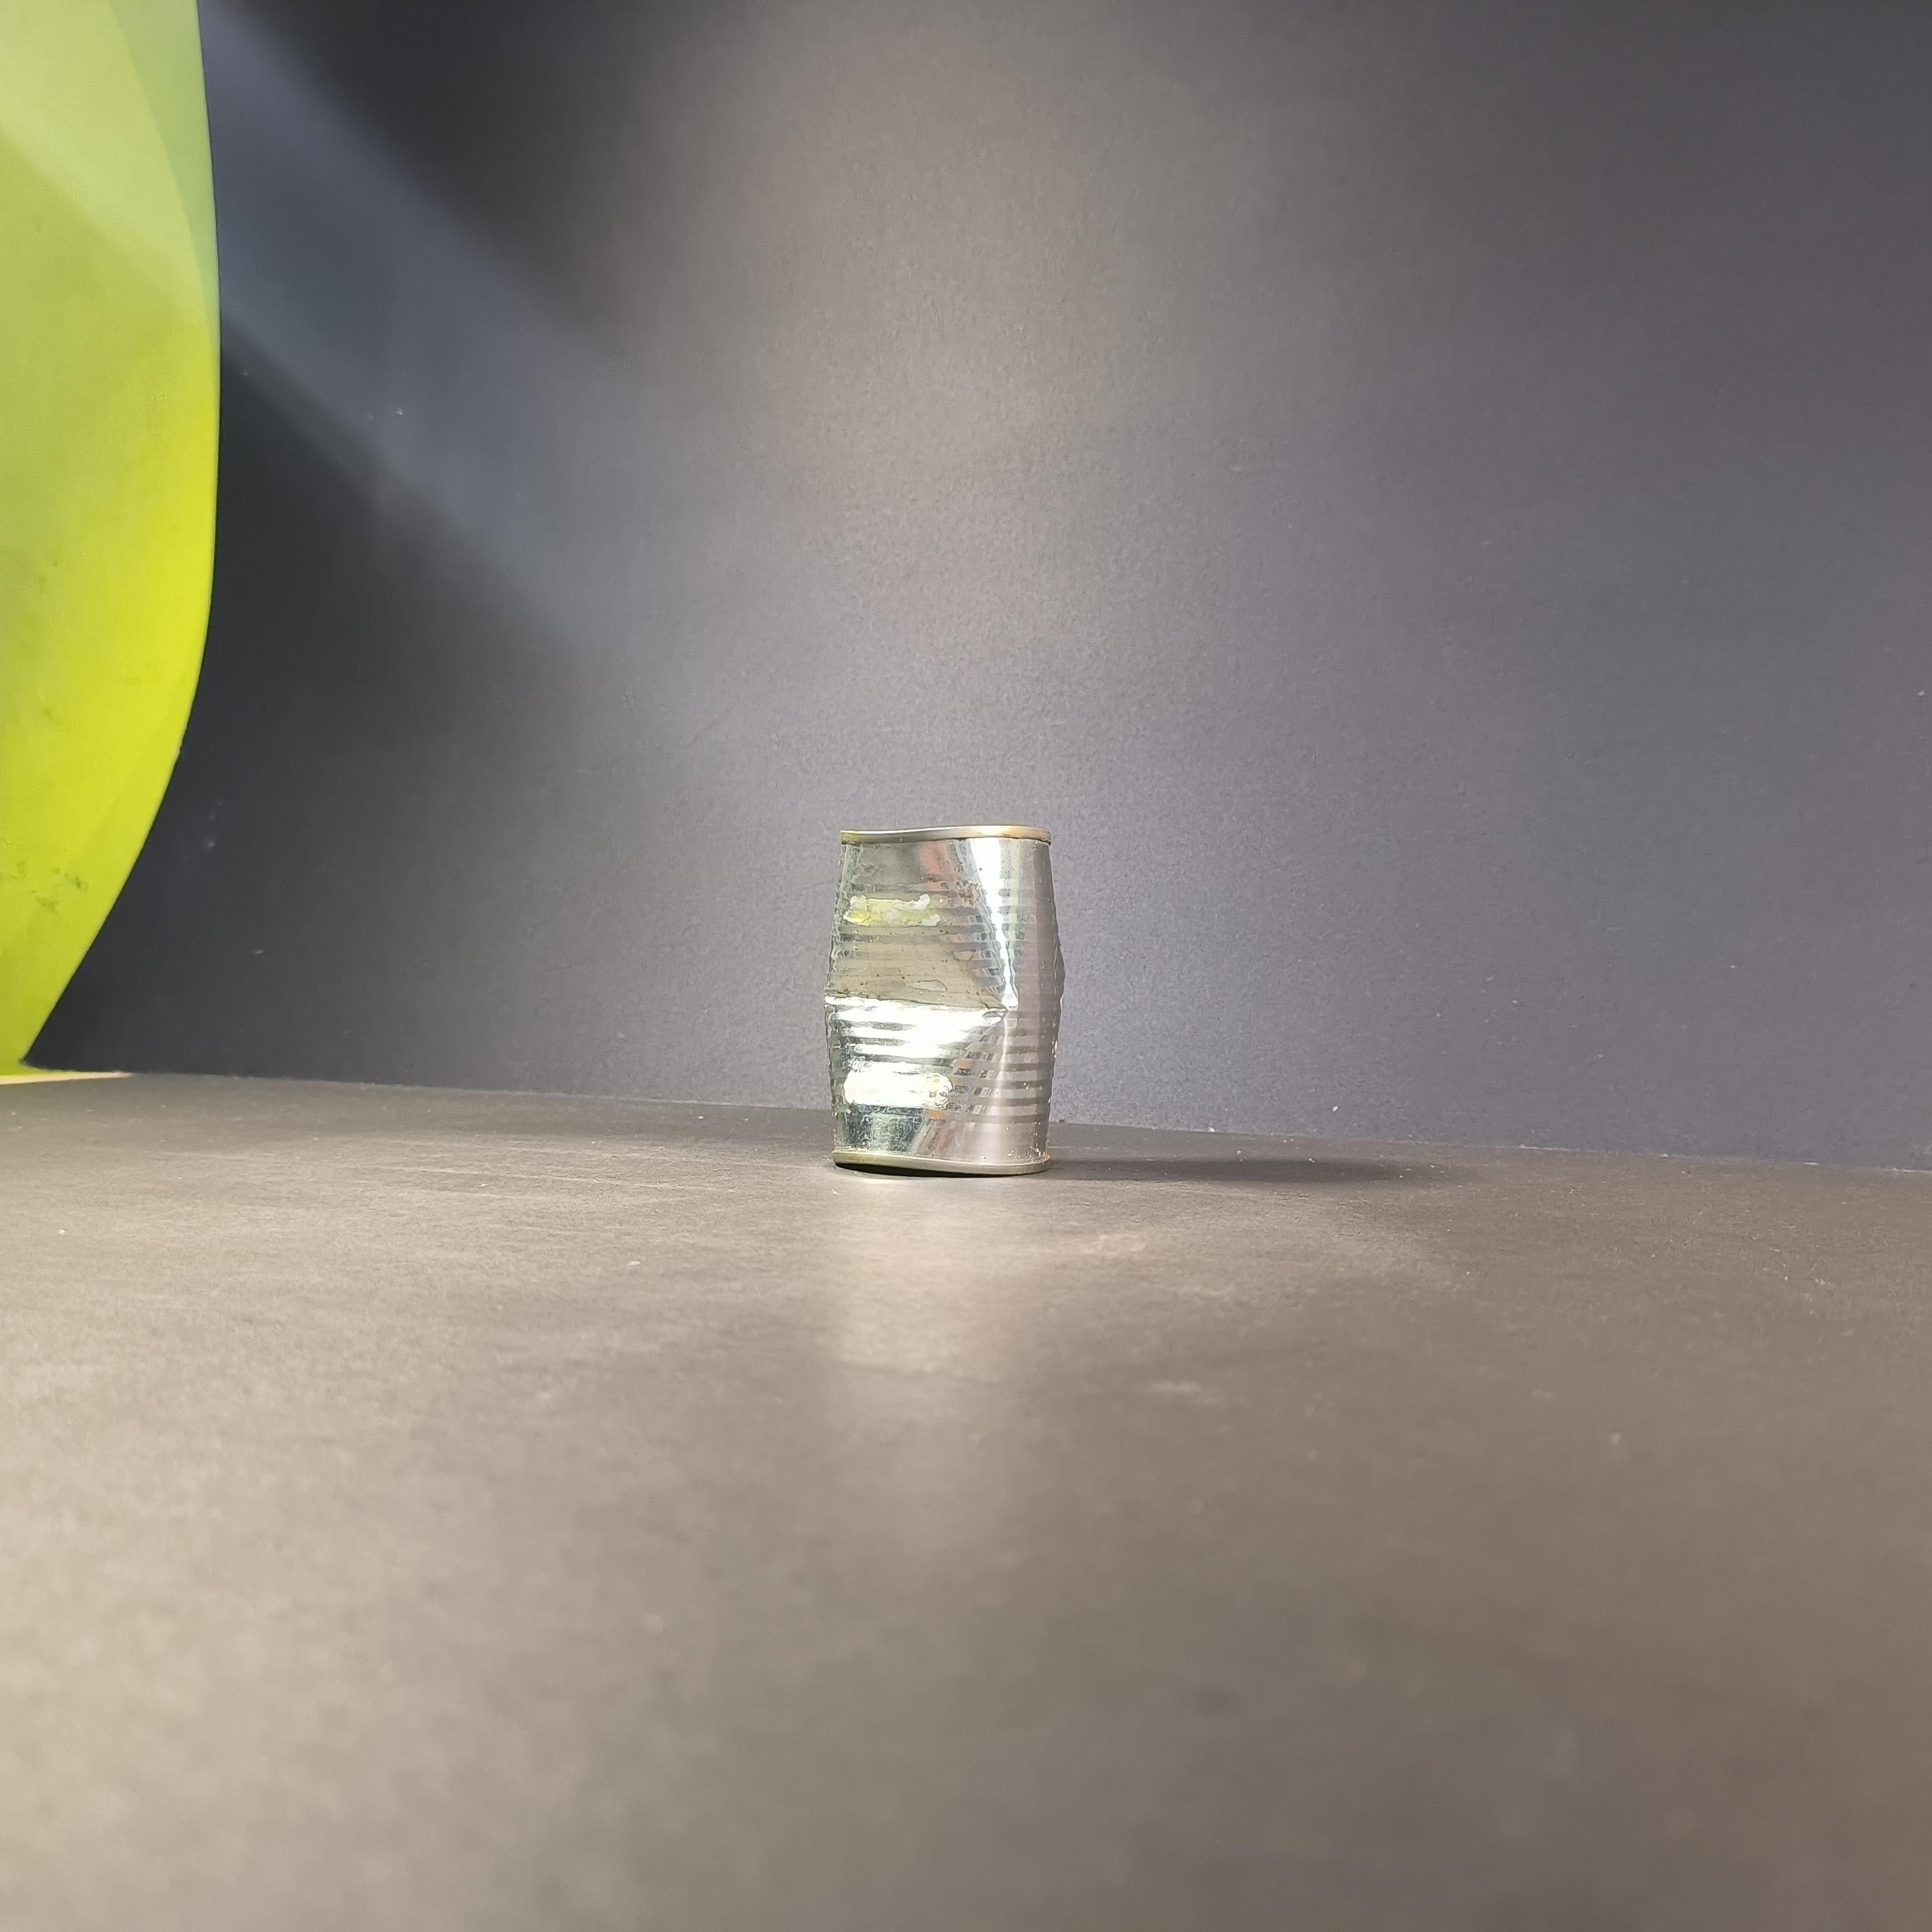Dented: (801, 801, 1077, 1194)
